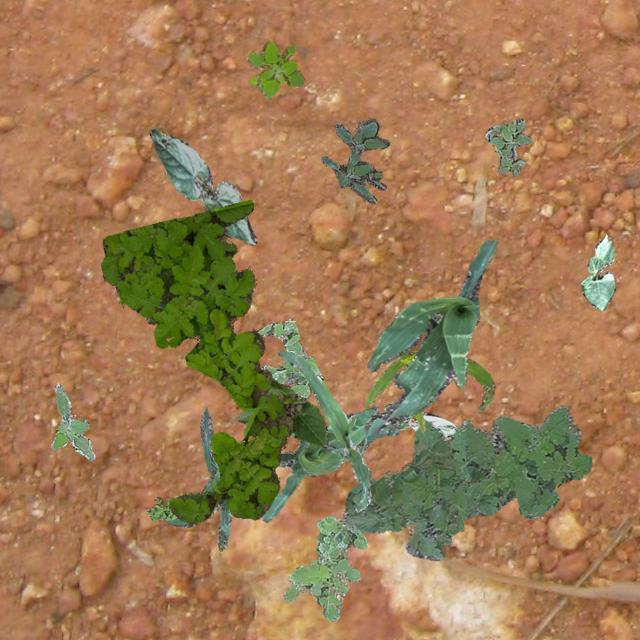crop: (364, 238, 496, 436), (262, 406, 401, 522), (276, 349, 371, 512), (148, 128, 256, 245), (362, 350, 494, 430), (157, 406, 230, 550), (235, 376, 326, 446), (580, 233, 614, 310), (382, 404, 458, 436)
weed: (100, 198, 292, 522), (342, 406, 592, 560), (283, 516, 367, 620), (254, 318, 328, 406), (321, 118, 388, 202), (50, 382, 94, 460), (246, 40, 304, 98), (484, 118, 532, 174), (146, 496, 176, 520)
